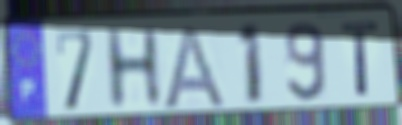1: (236, 21, 268, 107)
7: (55, 28, 95, 114)
9: (282, 20, 327, 104)
A: (159, 23, 229, 112)
H: (102, 24, 166, 114)
T: (339, 19, 383, 100)
